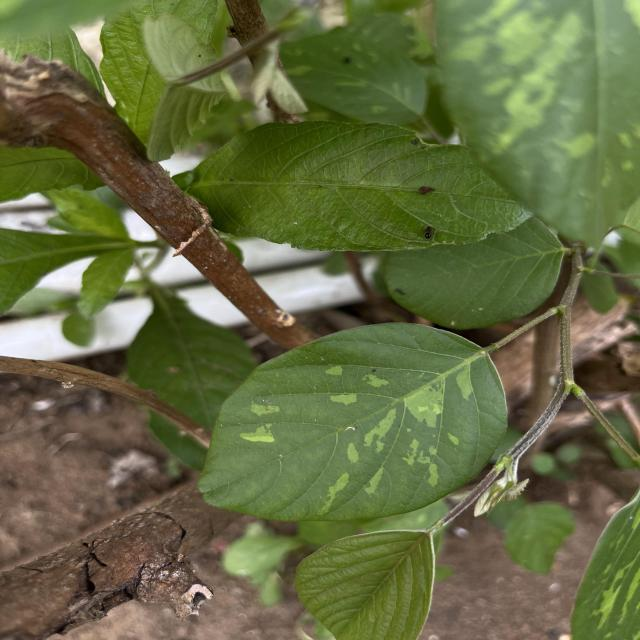Desmodium gangeticum: (193, 319, 513, 525)
